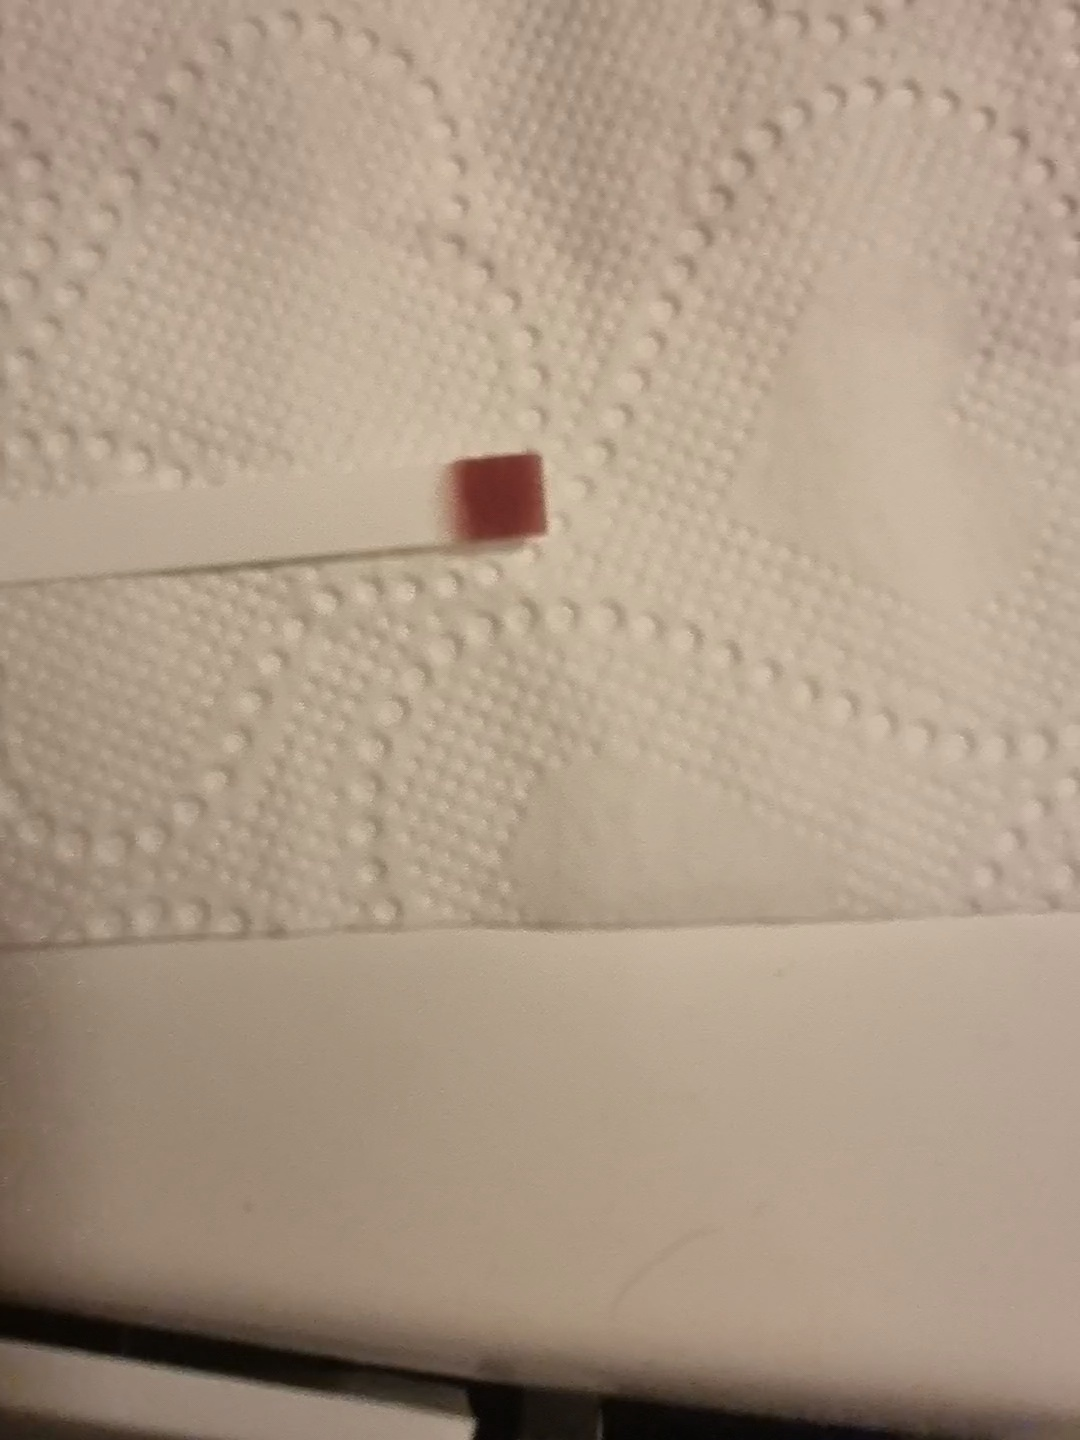keto-tip: (446, 444, 554, 552)
